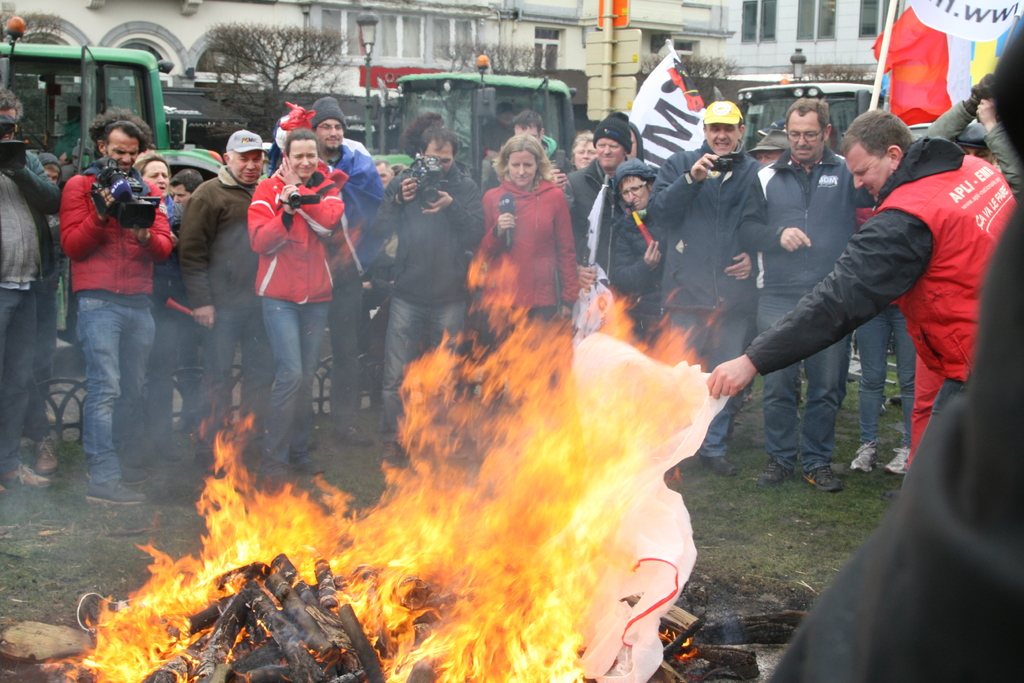Person: (0, 73, 1024, 682)
